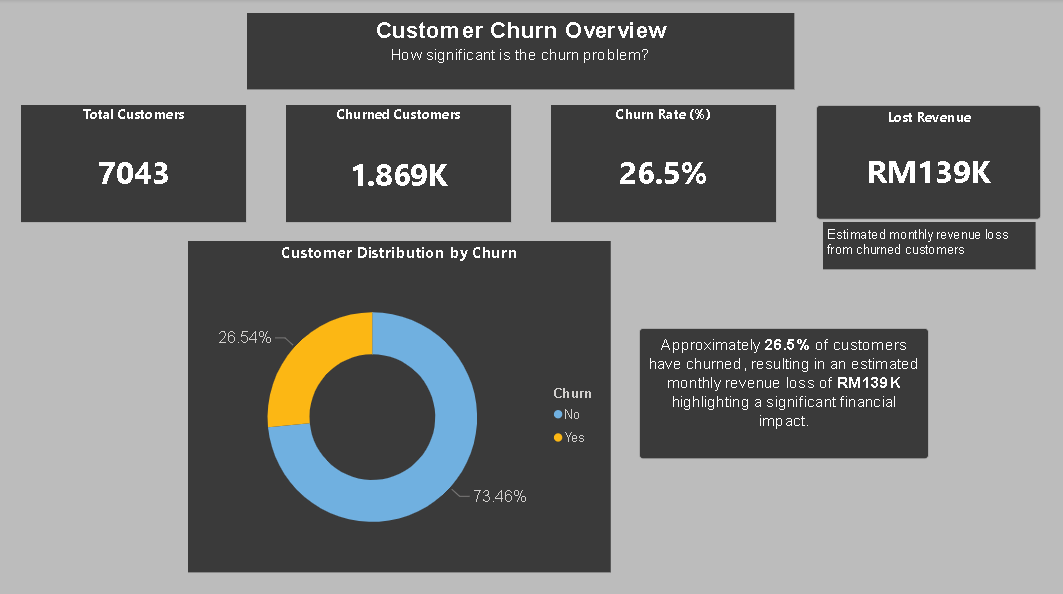

The page's visual inventory and layout, read from the dashboard file:
{"tool":"powerbi","page":{"name":"Executive Summary Overview","canvas":[1280,720],"ordinal":0},"visuals":[{"type":"cardVisual","title":"Churned Customers","fields":{"Data":["CountNonNull(customer_churn.customerID)"]},"box":[345.7,127.9,271.3,140.6],"z":0},{"type":"card","title":"Total Customers","fields":{"Values":["CountNonNull(customer_churn.customerID)"]},"box":[27,127.9,271.3,140.6],"z":1000},{"type":"card","title":"Churn Rate (%)","fields":{"Values":["customer_churn.Churn Rate"]},"box":[664.4,127.9,271.3,140.6],"z":2000},{"type":"donutChart","title":"Customer Distribution by Churn","fields":{"Category":["customer_churn.Churn"],"Y":["CountNonNull(customer_churn.customerID)"]},"box":[227,291.7,508.9,399.1],"z":3000},{"type":"textbox","box":[770,396.4,349.5,157.7],"z":4000},{"type":"textbox","box":[299,17.1,658.9,91.5],"z":5000},{"type":"card","title":"Lost Revenue","fields":{"Values":["customer_churn.Lost Revenue"]},"box":[983.1,127.9,271.3,137.8],"z":6000},{"type":"textbox","box":[991.6,268.5,255.7,56.8],"z":7000}]}

Visuals, with their boxes in screenshot pixels (x1, y1, x2, y2), scaled from the page's 1280x720 canvas onto the 1063x594 screenshot:
"Churned Customers" cardVisual: <region>287, 106, 512, 222</region>
"Total Customers" card: <region>22, 106, 248, 222</region>
"Churn Rate (%)" card: <region>552, 106, 777, 222</region>
"Customer Distribution by Churn" donutChart: <region>189, 241, 611, 570</region>
textbox: <region>639, 327, 930, 457</region>
textbox: <region>248, 14, 796, 90</region>
"Lost Revenue" card: <region>816, 106, 1042, 219</region>
textbox: <region>823, 222, 1036, 268</region>
